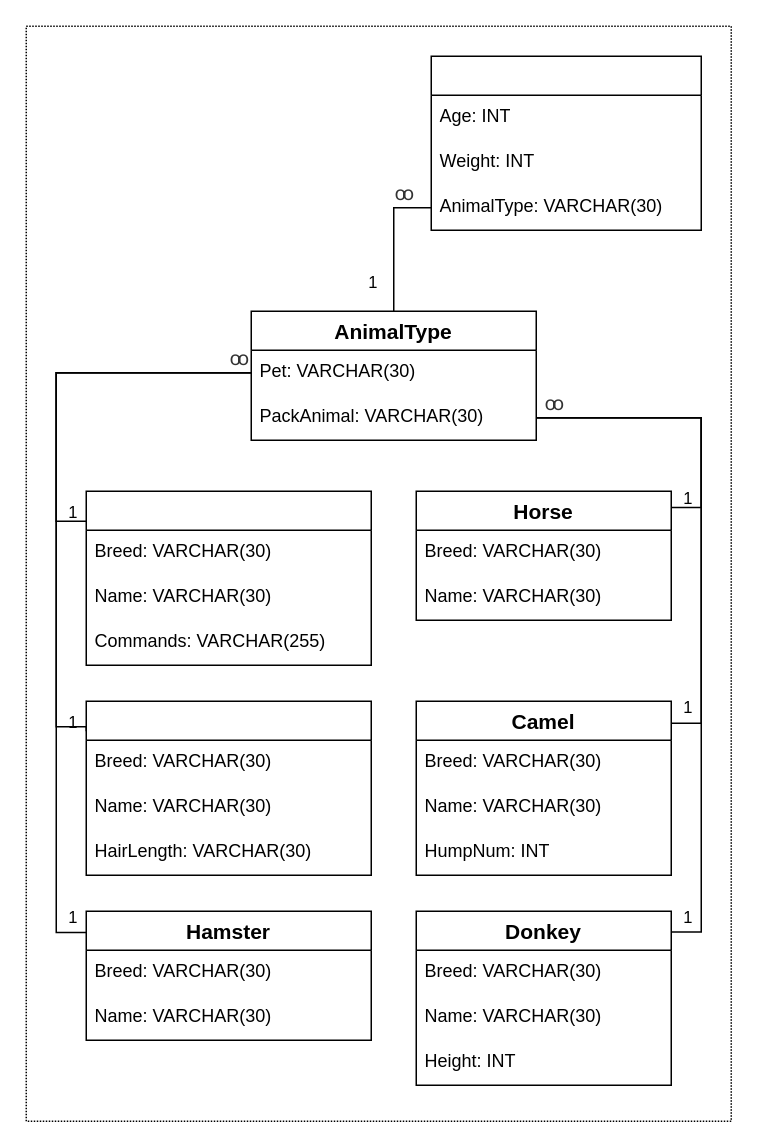
Some shapes in this 758 by 1148 pixel diagram are drawn without their labels. The box of each missing label's shape, as (x1, y1, x2, y2) in pixels:
Animals: (430, 55, 701, 230)
Cat: (85, 700, 371, 875)
Dog: (85, 490, 371, 665)
